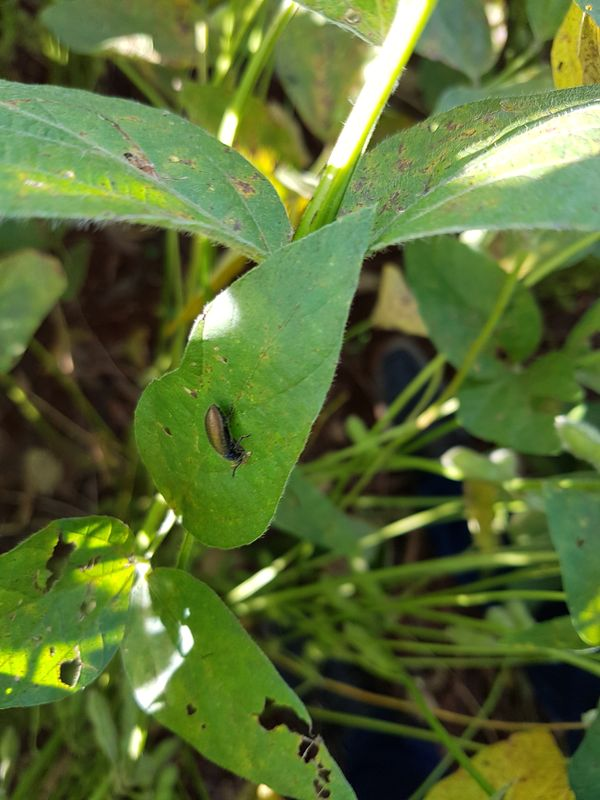Lagria_villosa: (190, 397, 257, 476)
